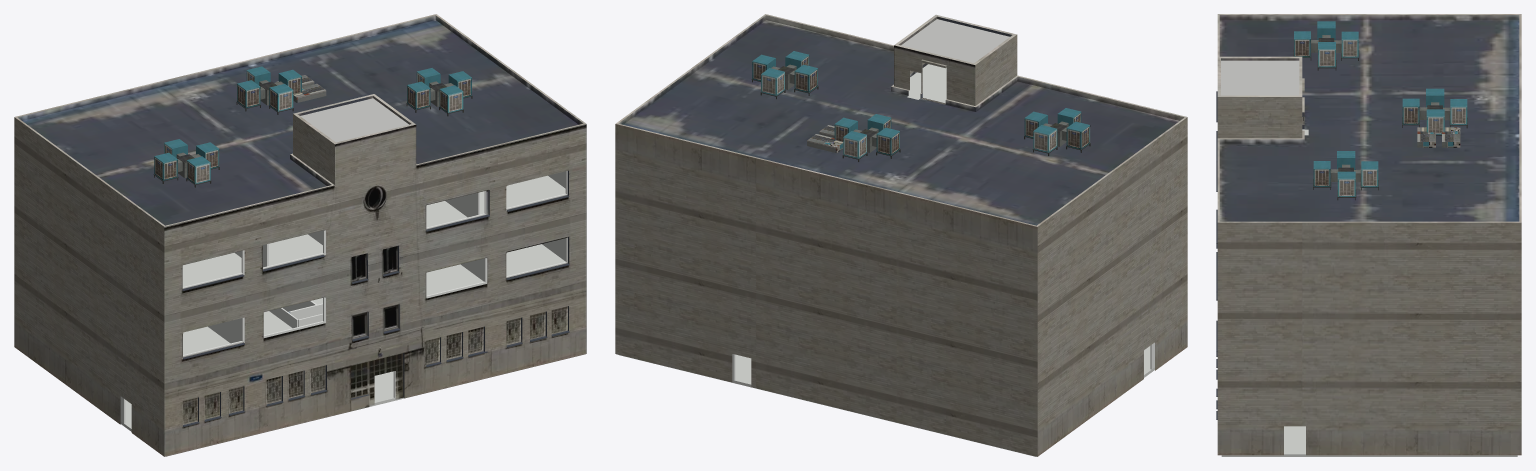
The model's file is hospital.access-v9.lod0.glb.
3 renders of one model, left to right at view 1: azimuth 30°, elevation 25°; view 2: azimuth 150°, elevation 25°; view 3: azimuth 270°, elevation 25°, orthographic.
Parts seen in each view (by area): view 1: Building00_House_0, Walkable floors and stairs (×3), Building00_Building_Roof_Detail_0; view 2: Building00_House_0, Building00_Building_Roof_Detail_0, Walkable floors and stairs (×2); view 3: Building00_House_0, Building00_Building_Roof_Detail_0, Walkable floors and stairs (×2).
Part boxes in pixels (left/top/right/bottom): Building00_House_0: left=14, top=14, right=586, bottom=456; Walkable floors and stairs (×3): left=120, top=98, right=580, bottom=454; Building00_Building_Roof_Detail_0: left=153, top=66, right=472, bottom=187; Building00_House_0: left=615, top=14, right=1187, bottom=456; Building00_Building_Roof_Detail_0: left=751, top=51, right=1090, bottom=161; Walkable floors and stairs (×2): left=619, top=19, right=1154, bottom=456; Building00_House_0: left=1216, top=14, right=1521, bottom=455; Building00_Building_Roof_Detail_0: left=1293, top=21, right=1467, bottom=200; Walkable floors and stairs (×2): left=1221, top=60, right=1517, bottom=456.
Size of the model in its own units: 40 by 24.72 by 24.73.
6 materials, 2 textured.
